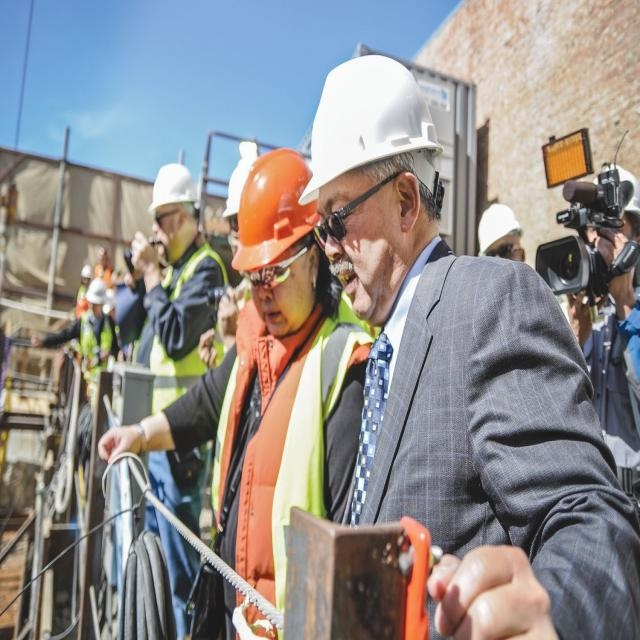Con_Casco: (310, 57, 436, 287), (149, 164, 194, 258)
